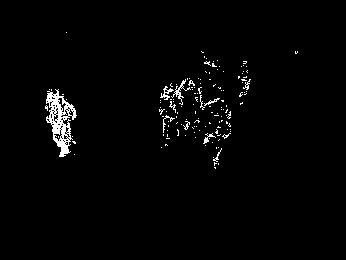person: (42, 89, 77, 158), (203, 91, 233, 169), (161, 82, 182, 148)
